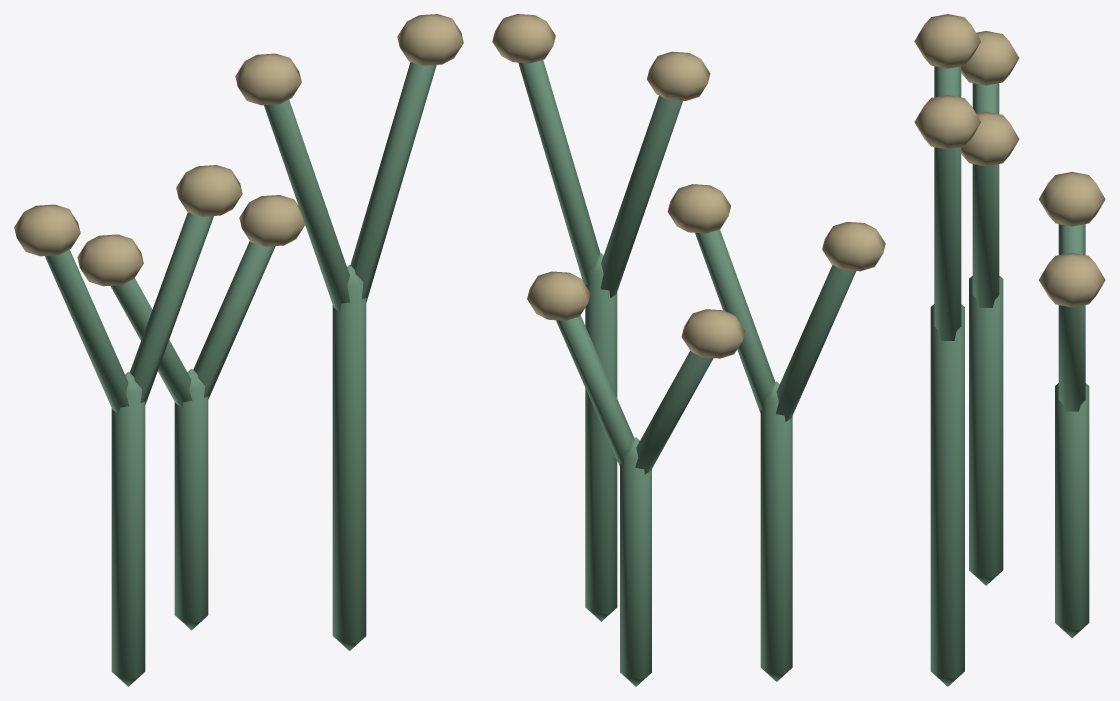
The model's file is org_cooksonia.glb.
The picture shows the model from 3 angles, left to right: view 1: azimuth 30°, elevation 25°; view 2: azimuth 150°, elevation 25°; view 3: azimuth 270°, elevation 25°; orthographic projection. The views are drawn at different scales.
Parts seen in each view (by area): view 1: Foliage, Trunk; view 2: Foliage, Trunk; view 3: Trunk, Foliage.
Part boxes in pixels (x1,y1,x2,y2): Foliage: (14, 14, 463, 413); Trunk: (111, 265, 366, 686); Foliage: (492, 14, 885, 474); Trunk: (585, 253, 792, 686); Trunk: (930, 276, 1089, 686); Foliage: (914, 14, 1105, 411).
Bounding box in the file's own units: 0.2177 × 0.3 × 0.0828.
